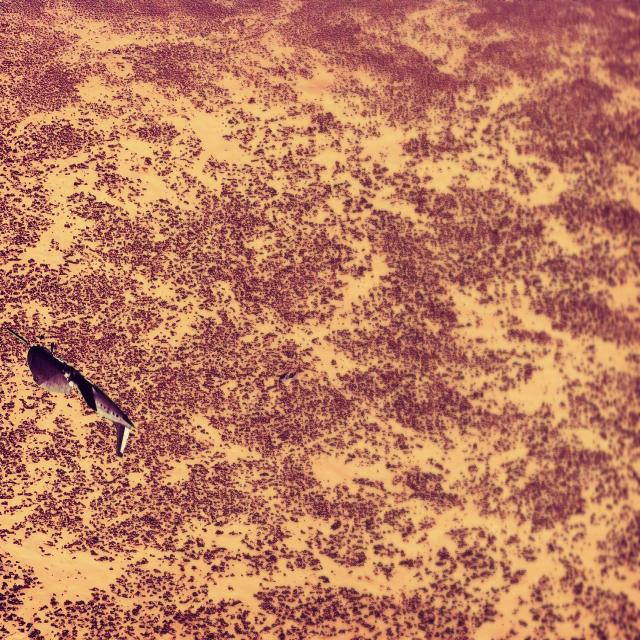airplane: (4, 323, 135, 457)
